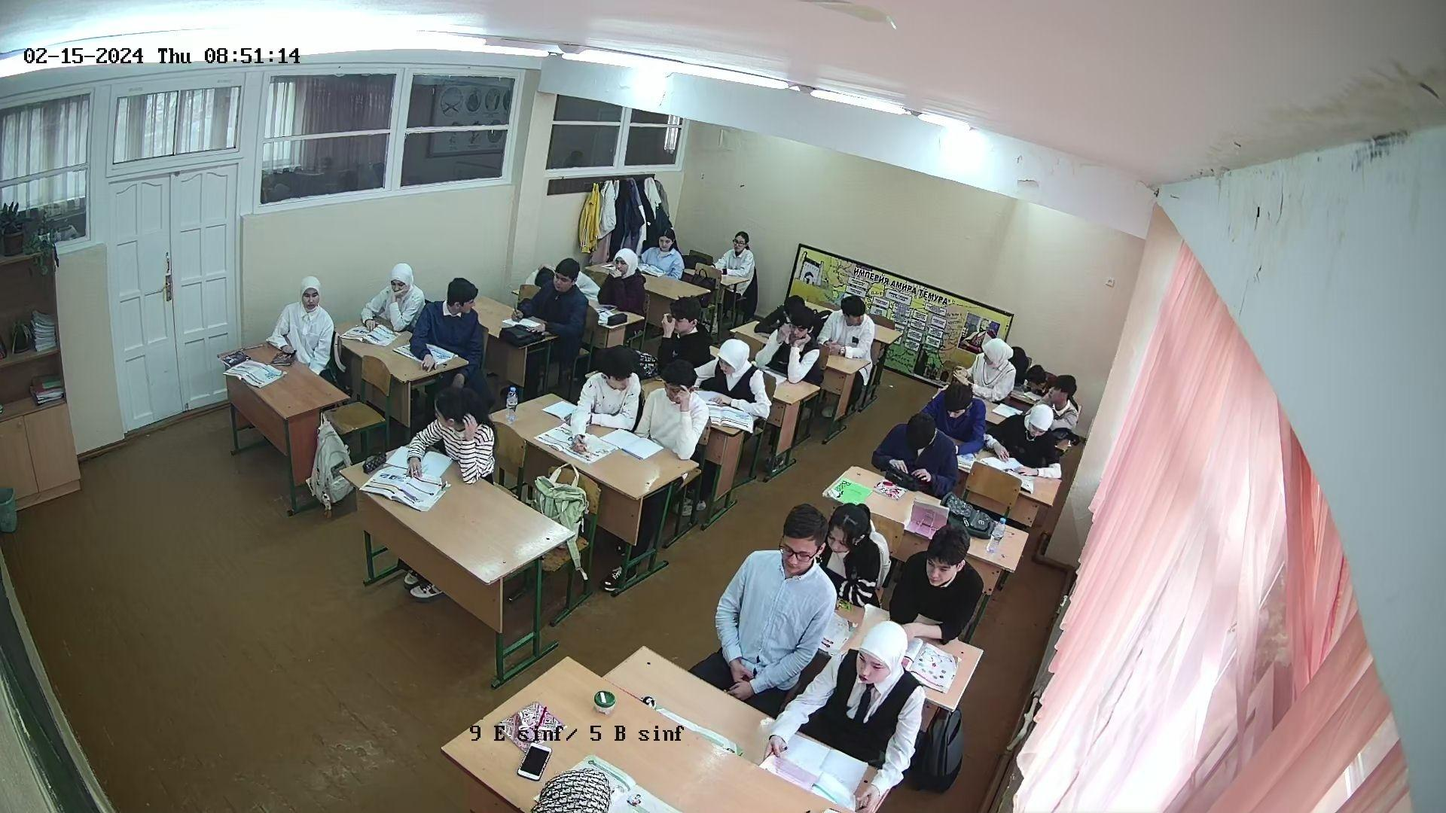Hand Under Table: (455, 350, 479, 385)
Look Around: (283, 277, 338, 370), (428, 276, 483, 344), (959, 337, 1011, 400), (1042, 372, 1085, 418)
Wave: (459, 413, 479, 484)
